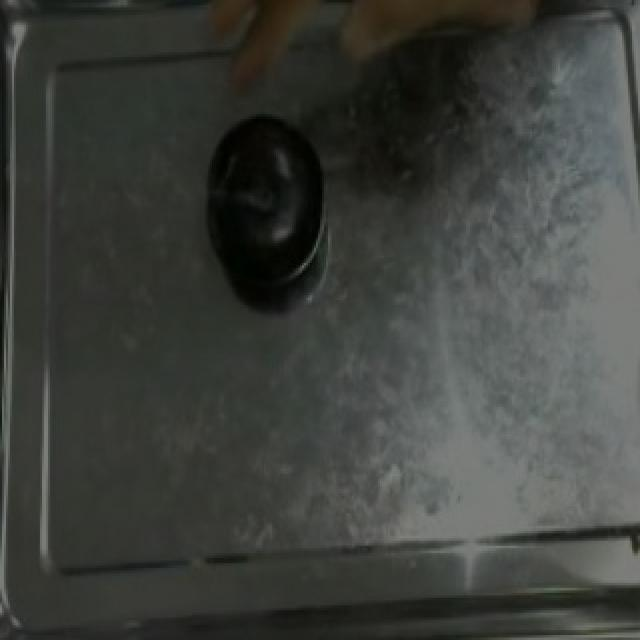Fruit: (202, 109, 330, 300)
